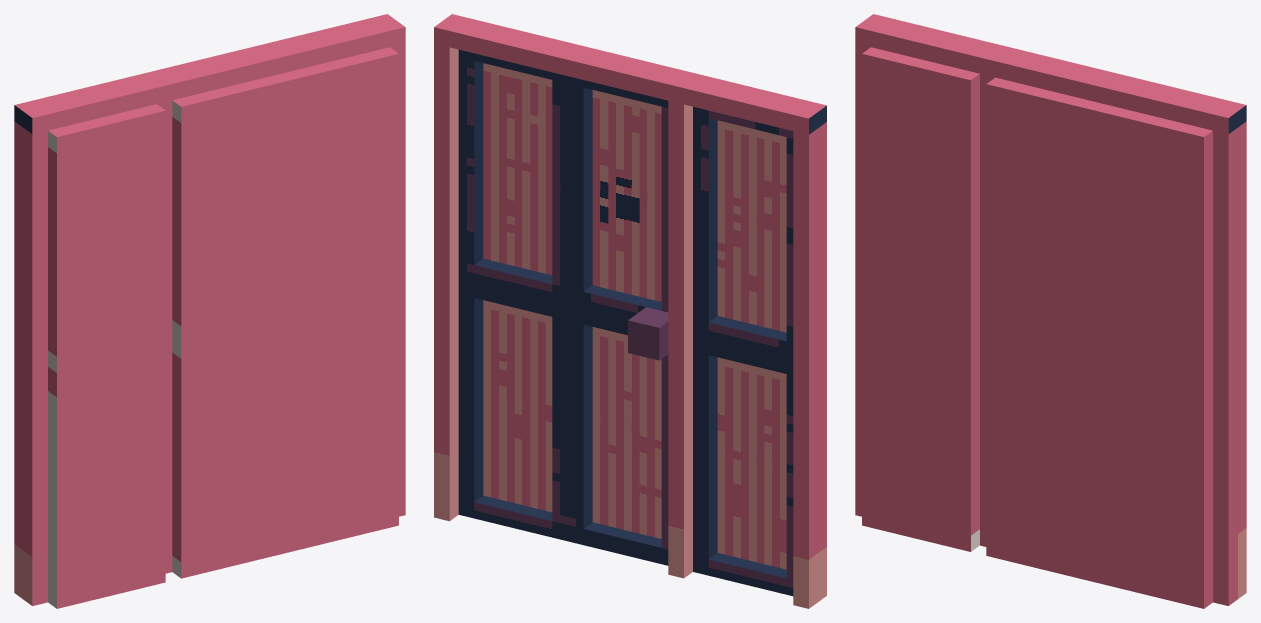
File: door_cafe.gltf
3 views of the same model, side by side, from view 1: azimuth 30°, elevation 25°; view 2: azimuth 150°, elevation 25°; view 3: azimuth 330°, elevation 25° (orthographic).
Parts seen in each view (by area): view 1: cuboid (×3); view 2: cuboid (×4); view 3: cuboid (×3).
Part boxes in pixels (x1,y1,x2,y2): cuboid (×3): (14, 14, 405, 608); cuboid (×4): (434, 14, 826, 608); cuboid (×3): (855, 14, 1246, 608).
Size of the model in its own units: 1.5 by 1.88 by 0.25.
1 material, 1 textured.
